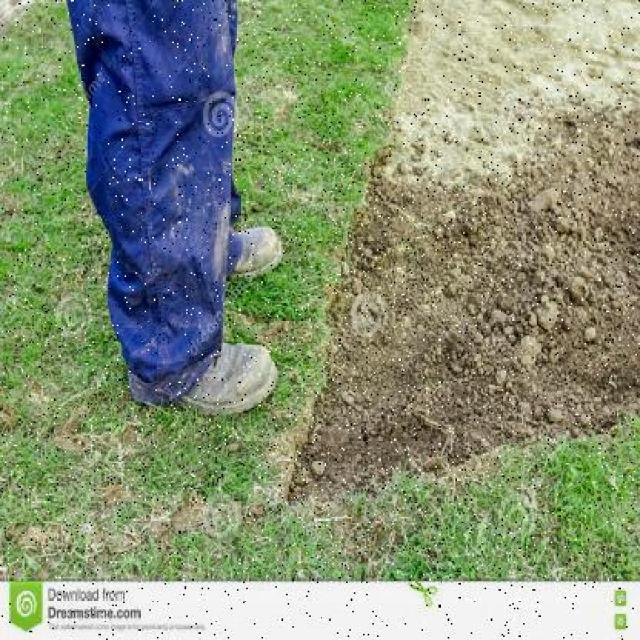shoes: (157, 336, 283, 418), (234, 224, 283, 279)
